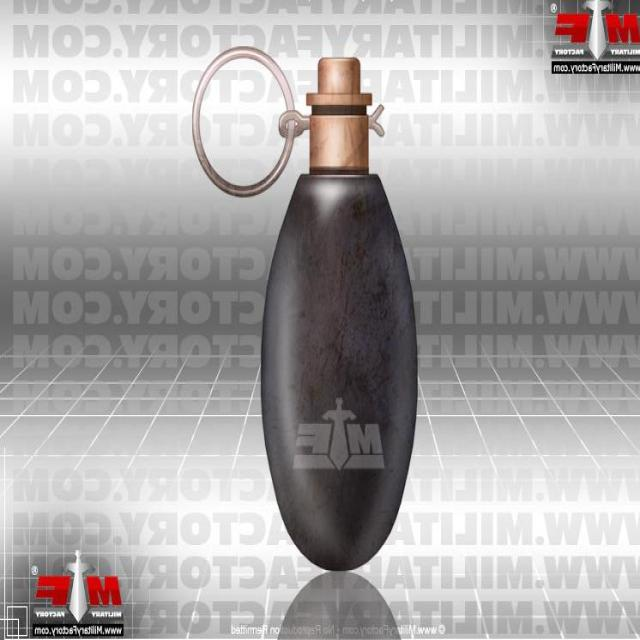grenade: (191, 44, 418, 572)
